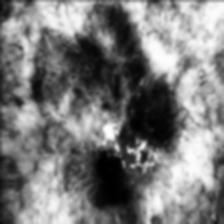Potentially Malignant Skin Tumors: (34, 7, 184, 216)
